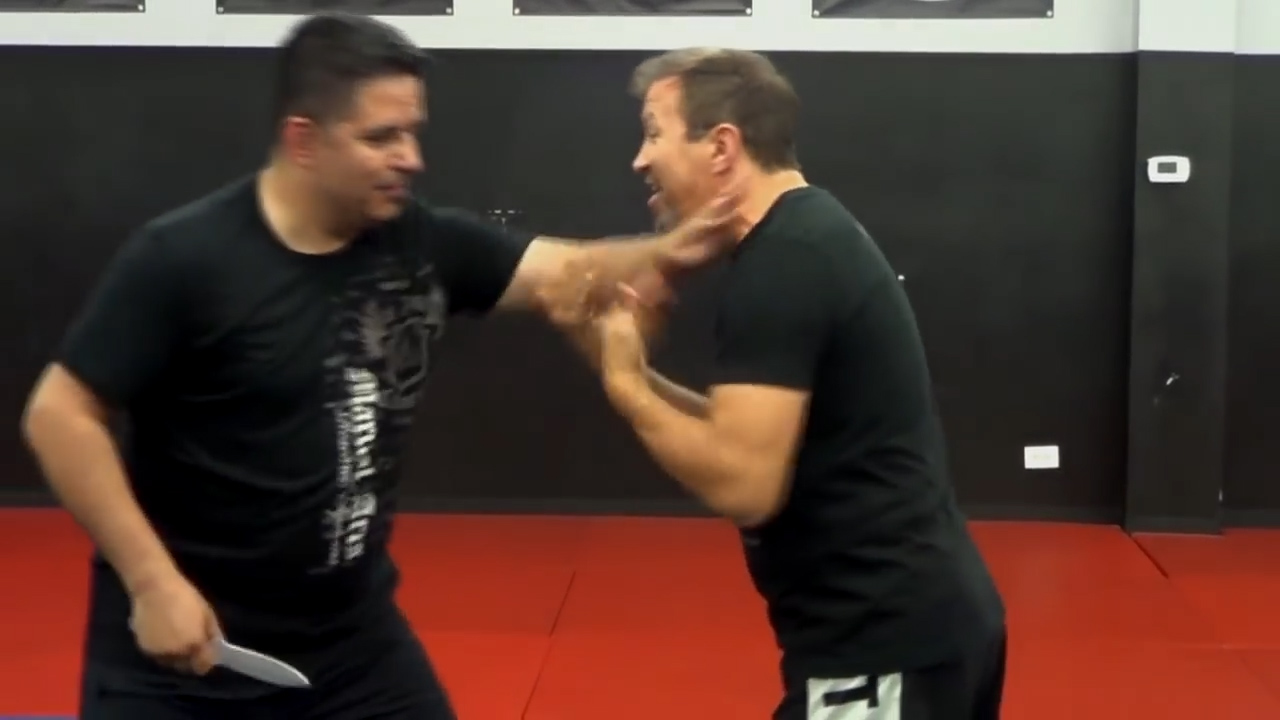knife: (123, 606, 315, 695)
